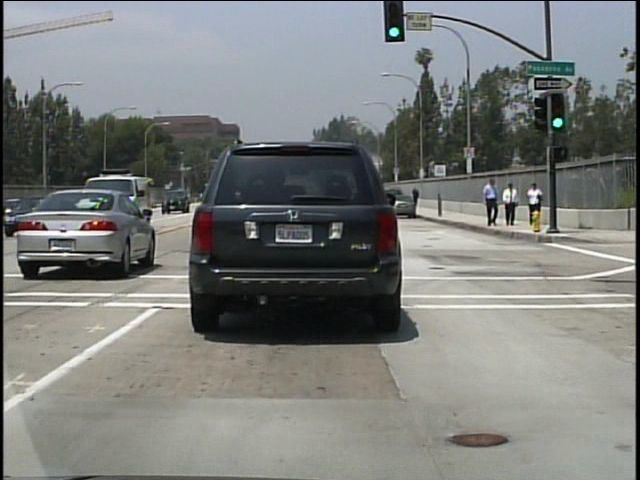person: (482, 179, 502, 233), (502, 180, 521, 227), (526, 181, 544, 212), (411, 187, 421, 210)
